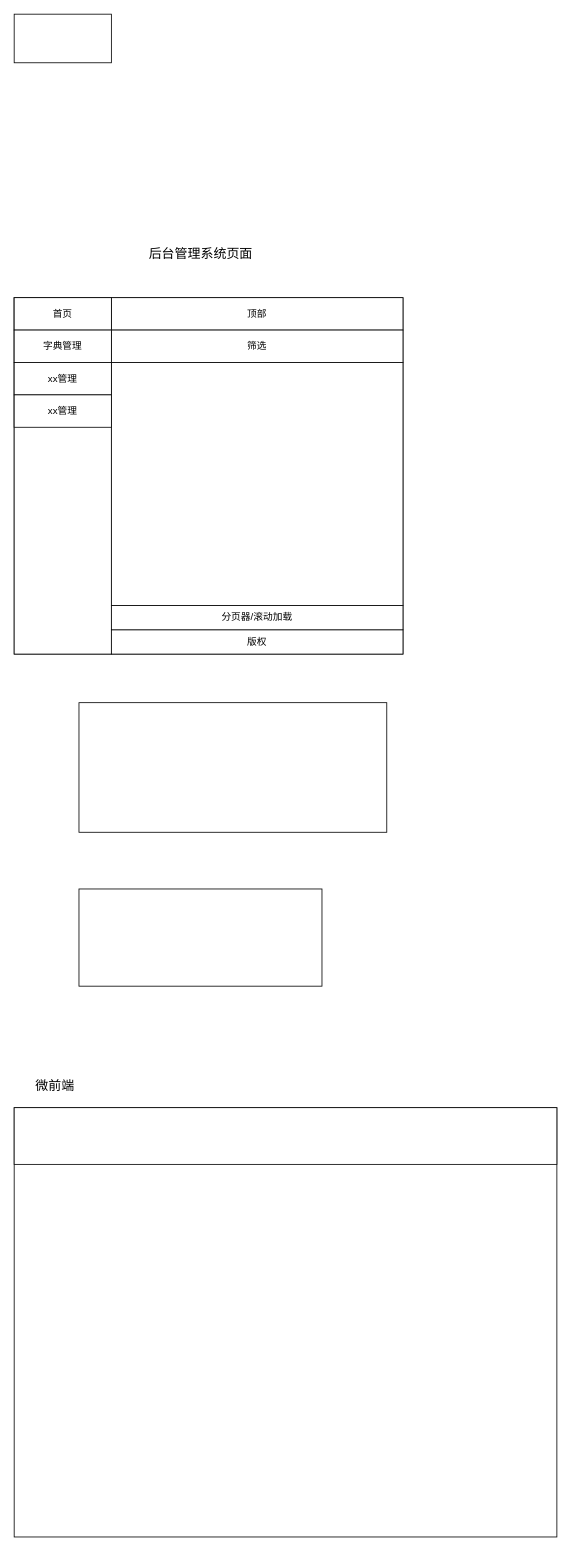
This 571x1551 diagram has some shape labels left out. Each missing label, with the centre of its shape:
header：项目切换: the point at 285,1135
pms-client： 平台核心只提供管理、配置能力（对数据的配置） 具体页面、表单、表格作为插件或子应用按需加载: the point at 232,767
可组件化部分： 1、表单设计器 2、表格设计器 3、: the point at 200,937
表格/列表: the point at 257,483
